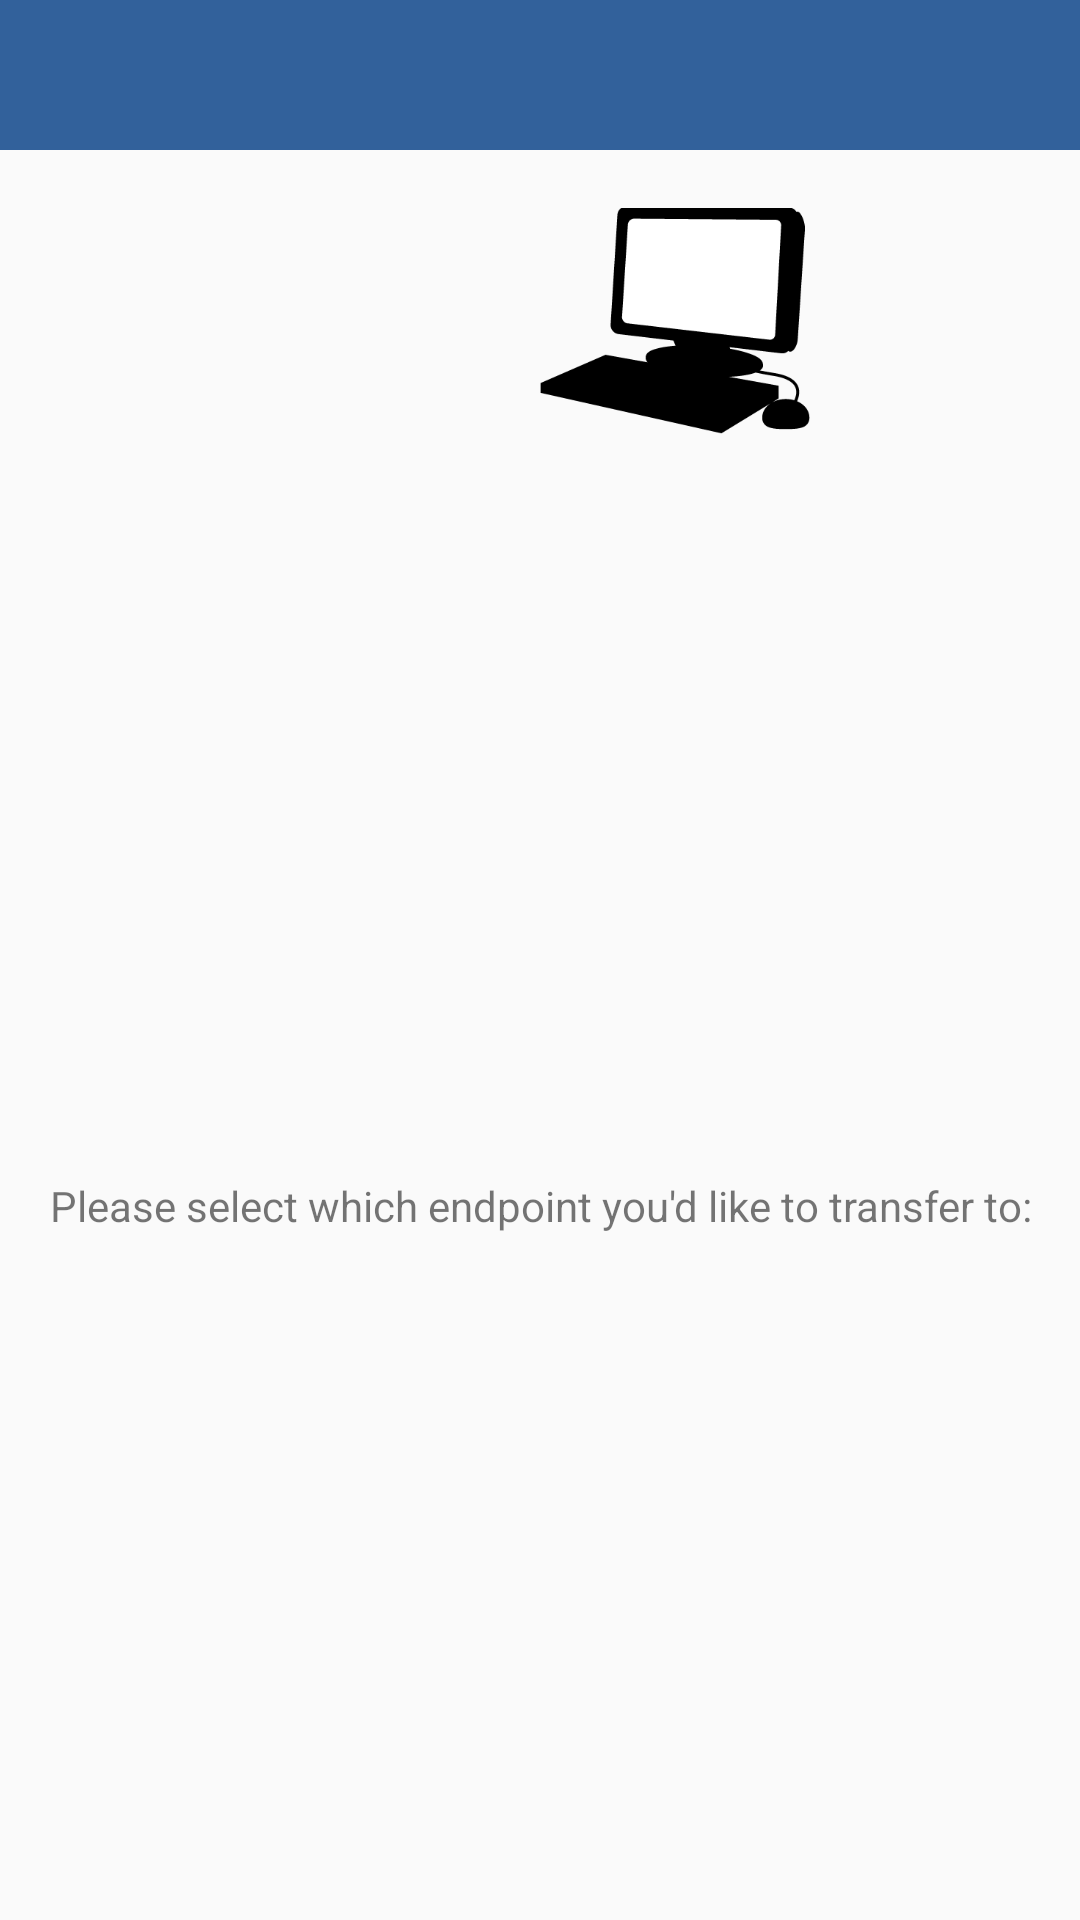

Point at icon controls on the screen. Image size 1080w x 1920h, points as point (x, y).
computer: point (675, 321)
